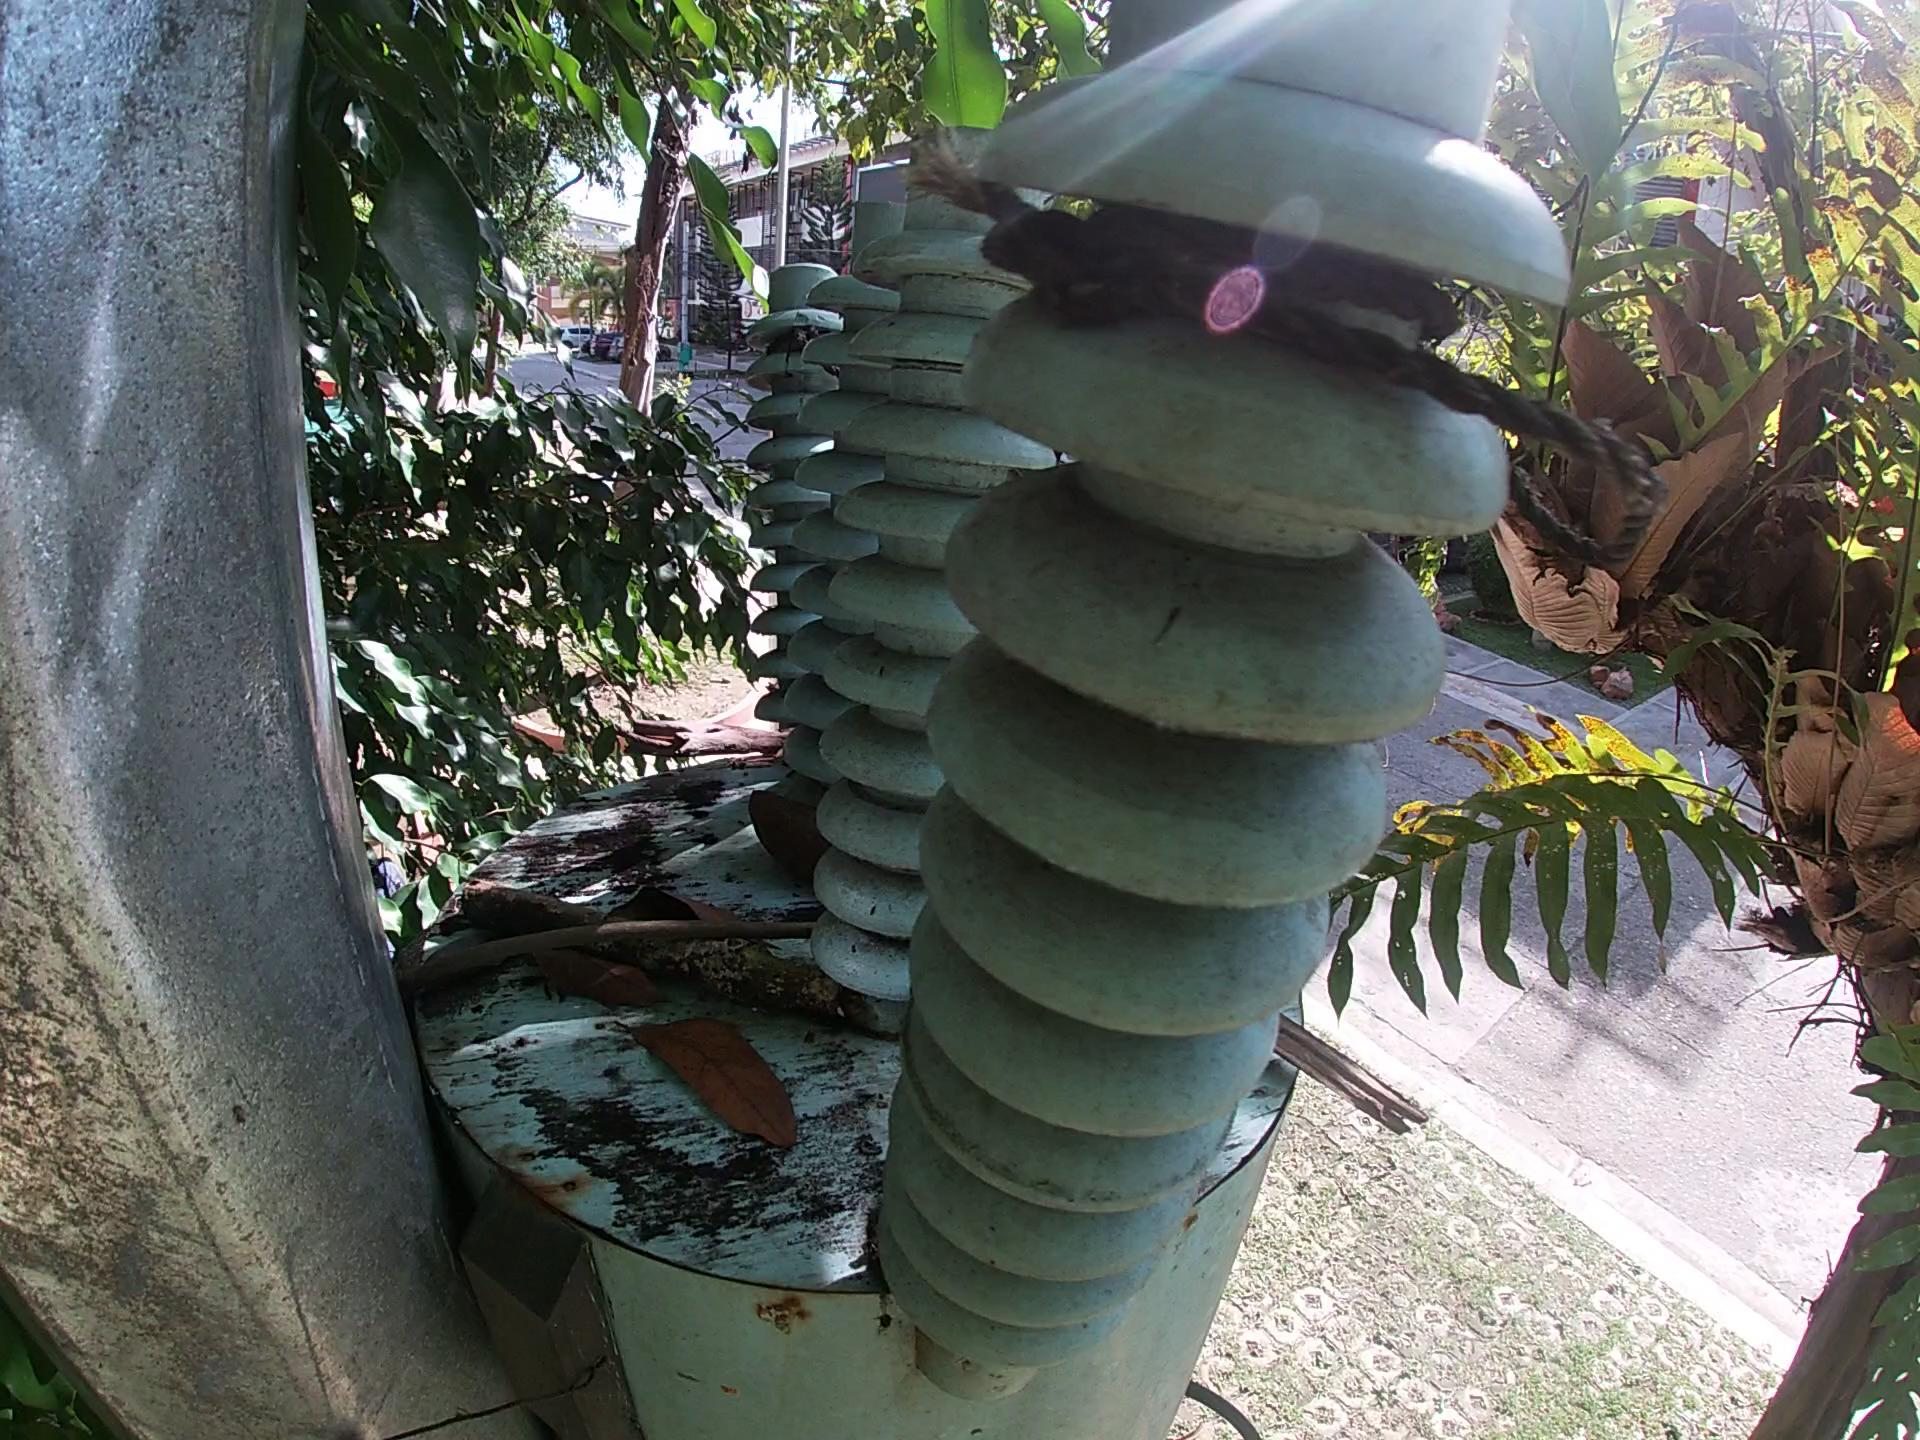leaf: (609, 1013, 803, 1153), (526, 944, 674, 1012), (600, 886, 736, 918)
mahogany fruit: (742, 787, 825, 886)
tree branch: (455, 882, 862, 1023), (398, 918, 824, 992), (1268, 1007, 1433, 1139), (614, 709, 797, 767)
